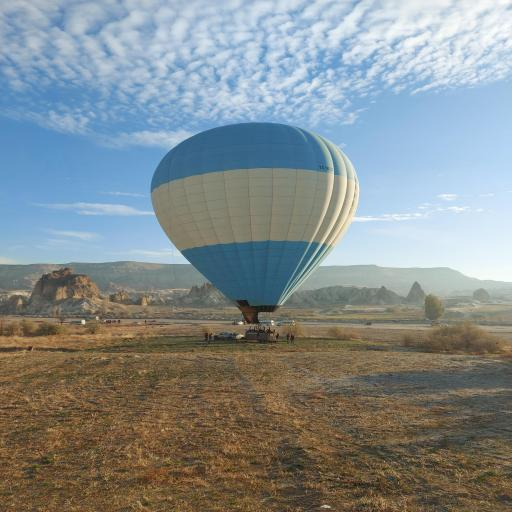hot air ballon: (148, 121, 361, 342)
